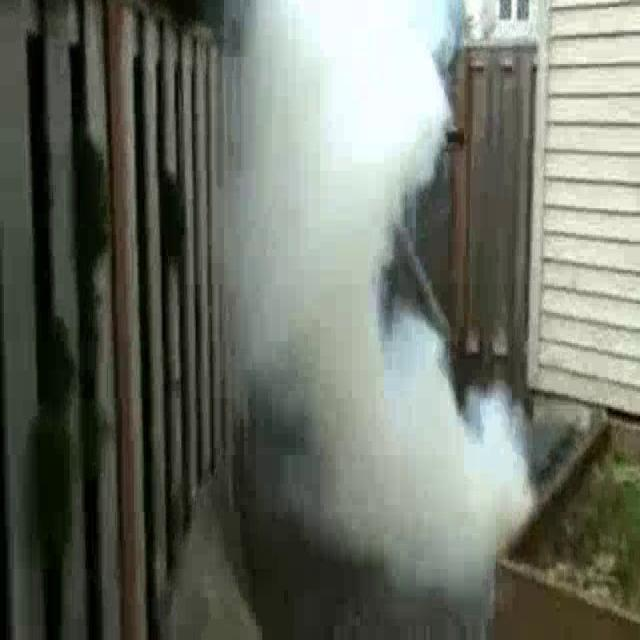Smoke: (220, 0, 533, 626)
